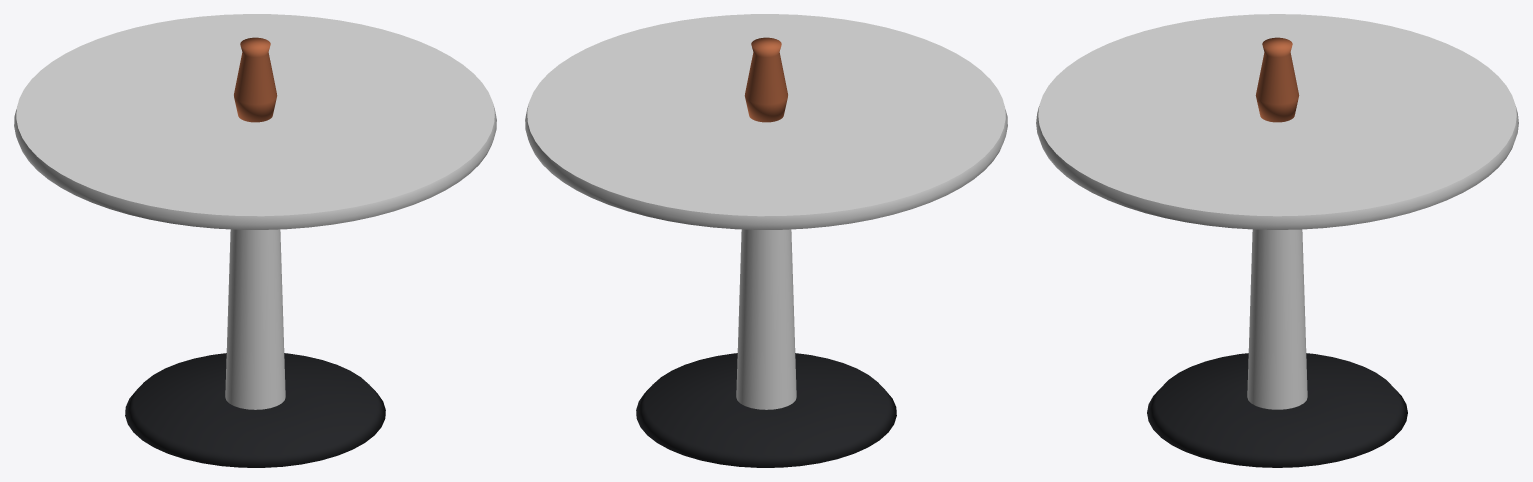
File: mesa_redonda.glb
3 renders of one model, left to right at view 1: azimuth 30°, elevation 25°; view 2: azimuth 150°, elevation 25°; view 3: azimuth 270°, elevation 25°, orthographic.
Visible parts, largest first — view 1: p; view 2: p; view 3: p.
Part boxes in pixels (<box>): p: <box>14,14,496,467</box>; p: <box>525,14,1007,467</box>; p: <box>1036,14,1518,467</box>.
Size of the model in its own units: 1.11 by 0.935 by 1.11.
